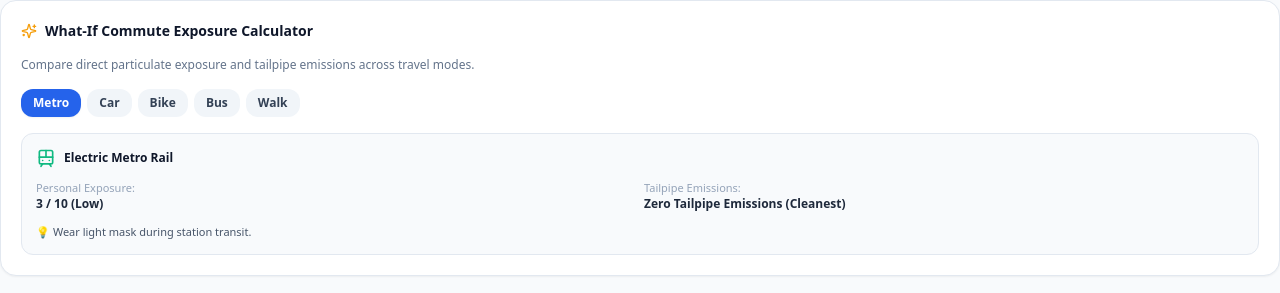
Scenario: Interactive Components Suite › CommuteWhatIfTool switches commute modes and updates exposure ratings
Expected: the text "Electric Metro Rail" is shown, [64, 150, 173, 166]
Click the button "bike".
click(163, 103)  # box [138, 89, 188, 117]
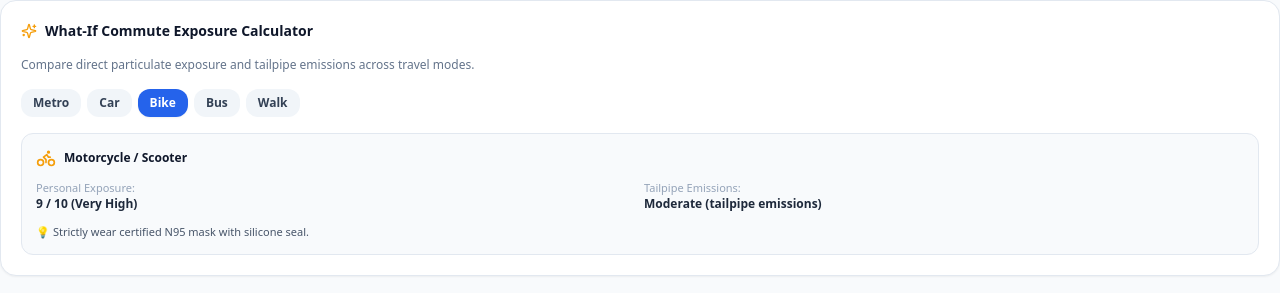
Result: the text "Motorcycle / Scooter" is shown at [64, 150, 187, 166]
Result: the text "9 / 10 (Very High)" is shown at [36, 195, 137, 212]
